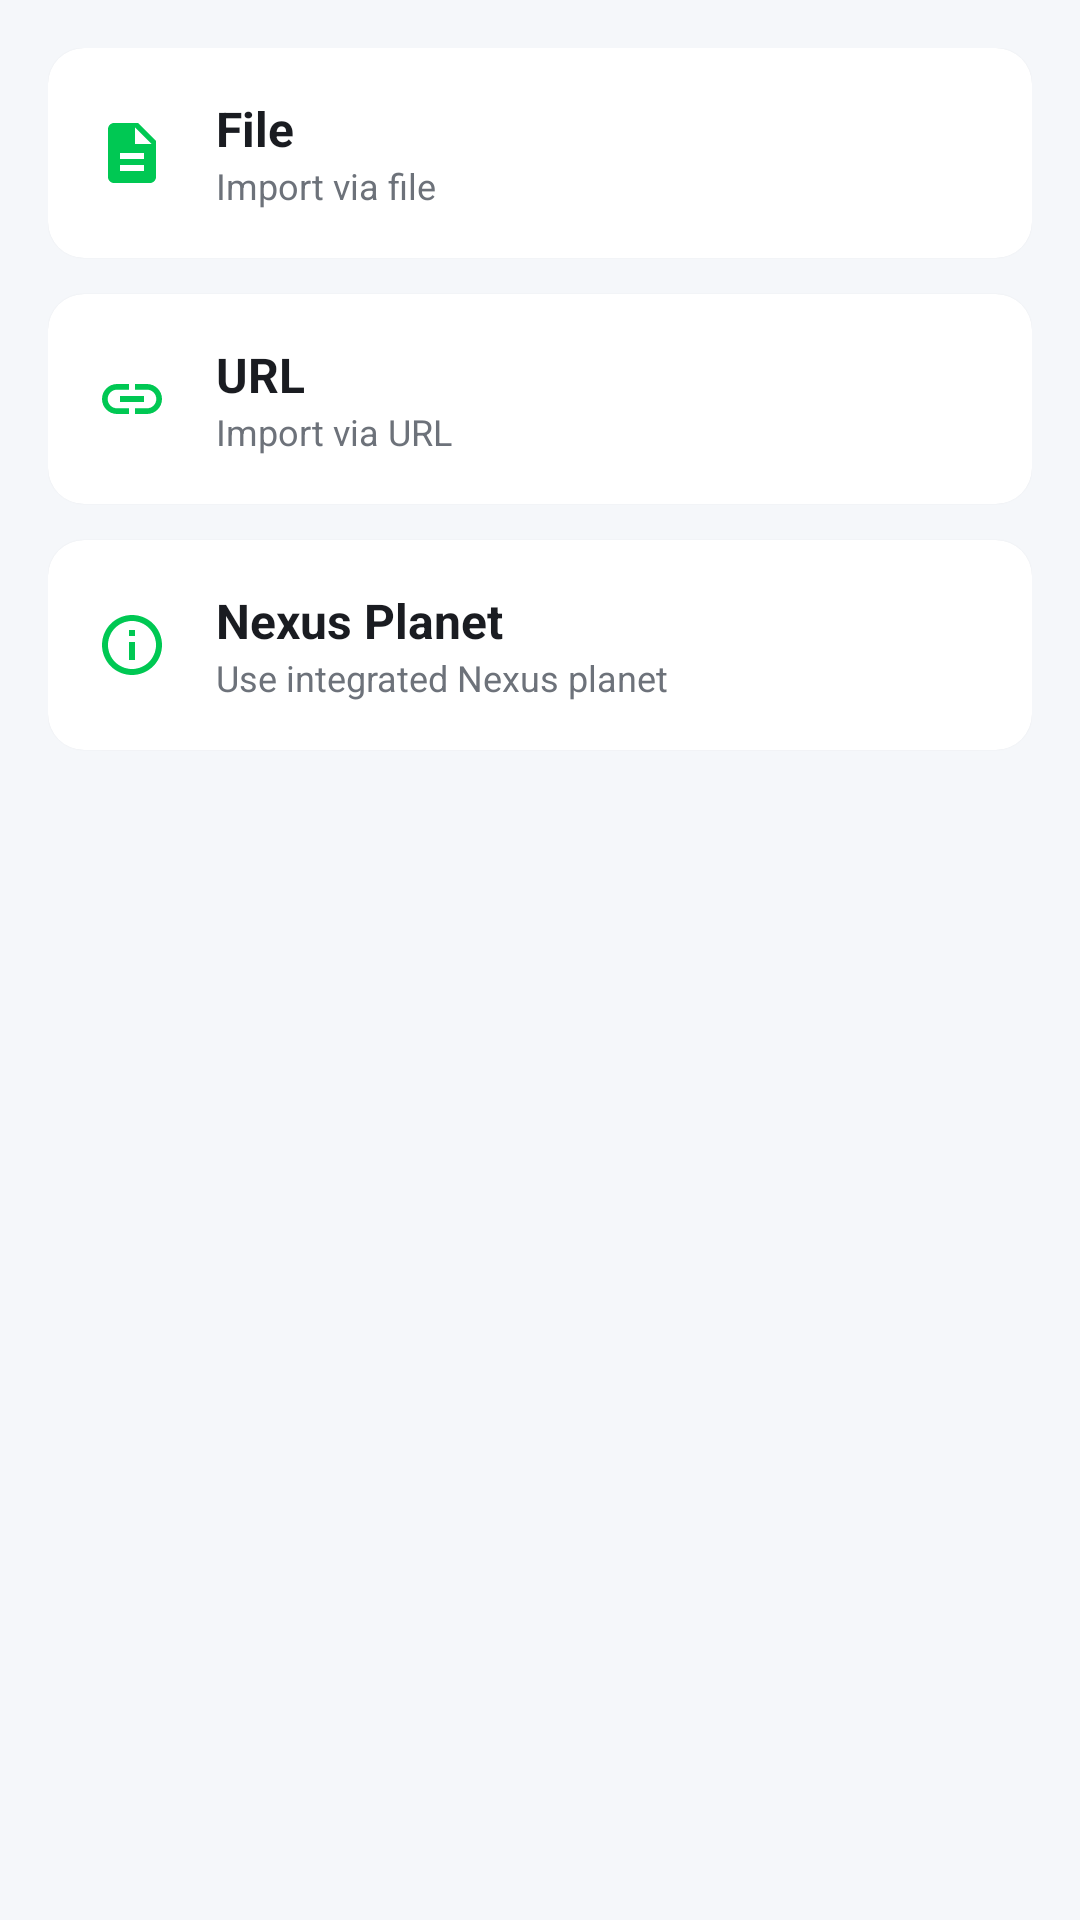

Icons on this 1080*1920 Android screen, each with its box as (x1, y1, x2, y2):
description: (108, 123, 156, 183)
link: (102, 384, 162, 414)
